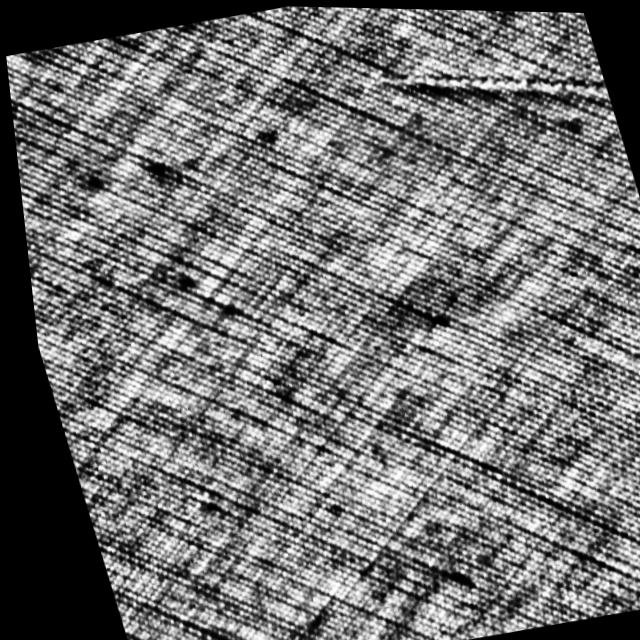Stitch: (365, 28, 613, 145)
